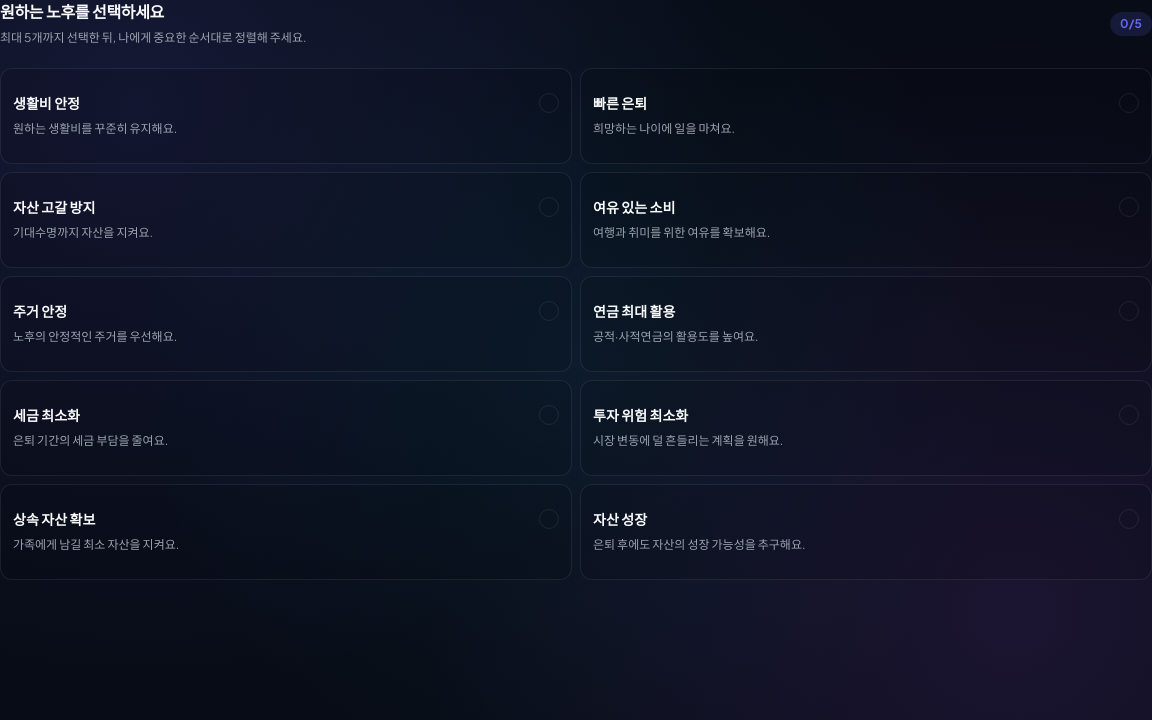
Scenario: RetirementGoalSelector › 정량 판정 대상이 아닌 목표 › 문구가 잠근 이유와 그래도 반영되는 것을 함께 말한다
This screenshot has width=1152, height=720.
Click the button "세금 최소화 은퇴 기간의 세금 부담을 줄여요." at (46, 415), box [0, 380, 572, 476]
(page scrolled)
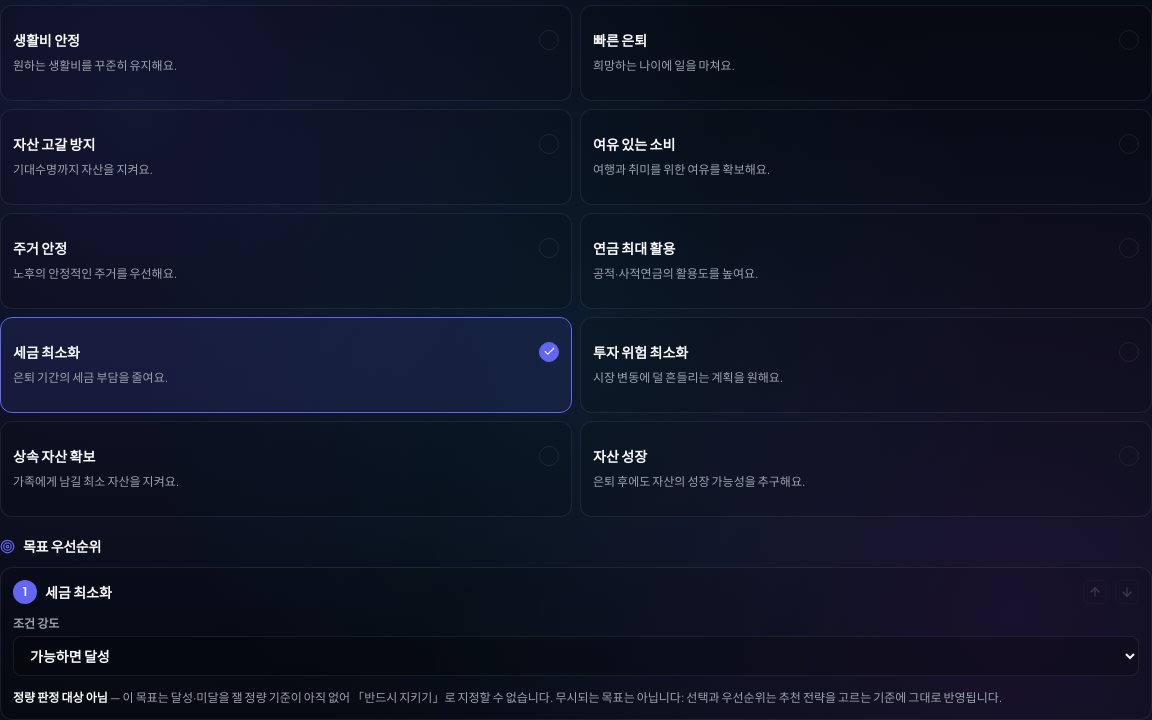
Check: the text "정량 기준이 아직 없어 「반드시 지키기」로 지정할 수 없습니다" is shown, box [13, 688, 1139, 707]
Check: the text "선택과 우선순위는 추천 전략을 고르는 기준에 그대로 반영됩니다" is shown, box [555, 690, 1002, 704]
